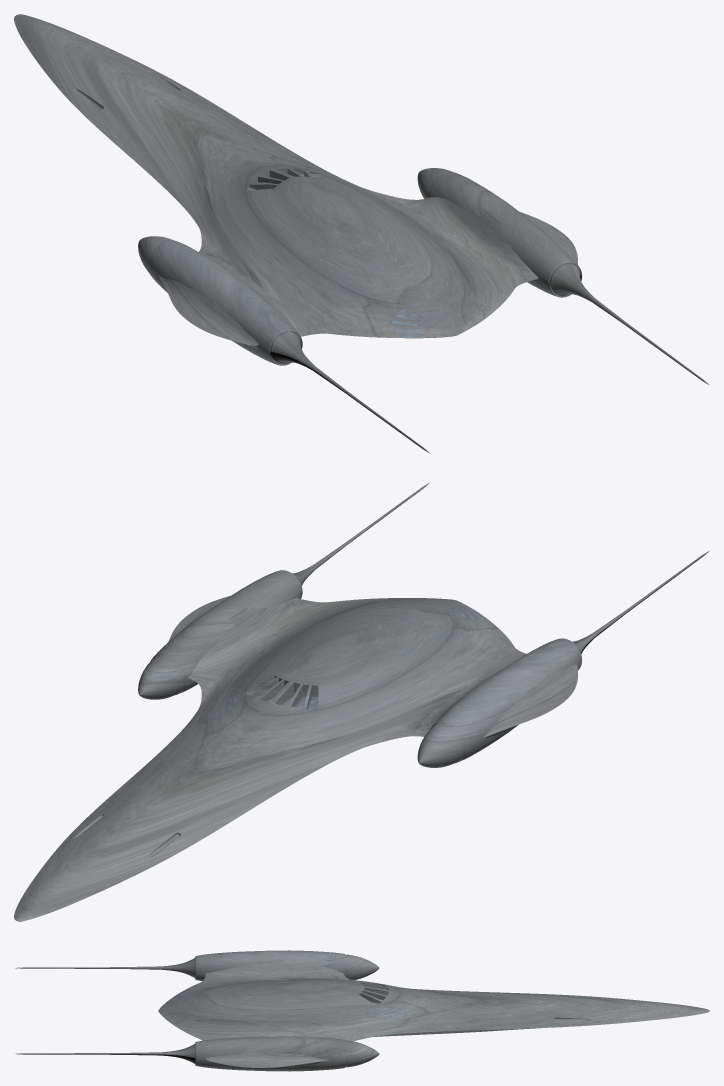
The model's file is sw_naboo_cruiser.glb.
The picture shows the model from 3 angles, top to bottom: view 1: azimuth 30°, elevation 25°; view 2: azimuth 150°, elevation 25°; view 3: azimuth 270°, elevation 25°; orthographic projection. The views are drawn at different scales.
Visible parts, largest first — view 1: Material1 (×3); view 2: Material1 (×4); view 3: Material1 (×5).
Part boxes in pixels (bbox=[...]): Material1 (×3): bbox=[14, 14, 708, 453]; Material1 (×4): bbox=[14, 483, 708, 921]; Material1 (×5): bbox=[15, 950, 709, 1071].
Size of the model in its own units: 0.7444 by 0.1573 by 1.92.
Materials: 3 (3 with a texture image).
